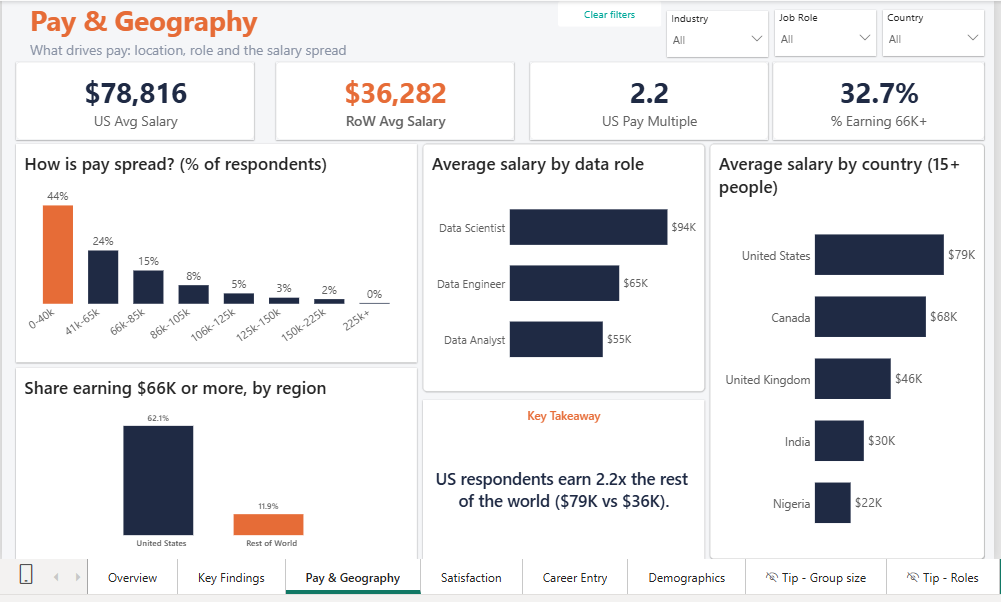

Layout of this report page (visuals, bound fields, positions):
{"tool":"powerbi","page":{"name":"Pay & Geography","canvas":[1920,1080],"ordinal":2},"visuals":[{"type":"textbox","box":[53.7,0,507.9,90.8],"z":0},{"type":"textbox","box":[53.7,76.4,708.1,41.3],"z":1000},{"type":"slicer","fields":{"Values":["Data Professional Survey.Industry"]},"box":[1286.2,18.6,196.1,88.8],"z":2000},{"type":"slicer","fields":{"Values":["Data Professional Survey.Job Role"]},"box":[1496.8,16.5,196.1,88.8],"z":3000},{"type":"slicer","fields":{"Values":["Data Professional Survey.Country"]},"box":[1705.3,16.5,196.1,88.8],"z":4000},{"type":"cardVisual","fields":{"Data":["_Measures.US Avg Salary"]},"box":[26.8,117.7,461,150.9],"z":5000},{"type":"cardVisual","fields":{"Data":["_Measures.RoW Avg Salary"]},"box":[530.6,117.7,461.3,150.9],"z":6000},{"type":"cardVisual","fields":{"Data":["_Measures.US Pay Multiple"]},"box":[1021.9,117.7,461,150.9],"z":7000},{"type":"cardVisual","fields":{"Data":["_Measures.% Earning 66K+"]},"box":[1492.6,117.7,409,150.9],"z":8000},{"type":"clusteredColumnChart","title":"How is pay spread? (% of respondents)","fields":{"Category":["Data Professional Survey.Salary_Range"],"Y":["_Measures.Total Respondents"]},"box":[26.8,276.6,776.3,423.2],"z":9000},{"type":"clusteredBarChart","title":"Average salary by country (15+ people)","fields":{"Category":["Data Professional Survey.Country"],"Y":["_Measures.Avg Salary (Safe)"]},"box":[1370.8,276.6,530.6,803.1],"z":10000},{"type":"card","title":"Key Takeaway","fields":{"Values":["_Measures.Pay Insight"]},"box":[815.5,772.1,545,307.6],"z":11000},{"type":"clusteredBarChart","title":"Average salary by data role","fields":{"Category":["Data Professional Survey.Job Role"],"Y":["_Measures.Avg Salary (Safe)"]},"box":[815.5,276.6,545,479],"z":12000},{"type":"clusteredColumnChart","title":"Share earning $66K or more, by region","fields":{"Category":["Data Professional Survey.Region Group"],"Y":["_Measures.% Earning 66K+"]},"box":[26.8,710.2,776.3,369.5],"z":13000},{"type":"actionButton","box":[1075.6,0,200,50],"z":14000}]}

Visuals, with their boxes on the page's 1920x1080 design canvas (x1, y1, x2, y2). These are canvas units, not pixel positions in the 1001x602 screenshot, which may show the page scaled, cropped or inside an application window:
textbox: rect(54, 0, 562, 91)
textbox: rect(54, 76, 762, 118)
slicer - Data Professional Survey.Industry: rect(1286, 19, 1482, 107)
slicer - Data Professional Survey.Job Role: rect(1497, 16, 1693, 105)
slicer - Data Professional Survey.Country: rect(1705, 16, 1901, 105)
cardVisual - _Measures.US Avg Salary: rect(27, 118, 488, 269)
cardVisual - _Measures.RoW Avg Salary: rect(531, 118, 992, 269)
cardVisual - _Measures.US Pay Multiple: rect(1022, 118, 1483, 269)
cardVisual - _Measures.% Earning 66K+: rect(1493, 118, 1902, 269)
"How is pay spread? (% of respondents)" clusteredColumnChart: rect(27, 277, 803, 700)
"Average salary by country (15+ people)" clusteredBarChart: rect(1371, 277, 1901, 1080)
"Key Takeaway" card: rect(816, 772, 1360, 1080)
"Average salary by data role" clusteredBarChart: rect(816, 277, 1360, 756)
"Share earning $66K or more, by region" clusteredColumnChart: rect(27, 710, 803, 1080)
actionButton: rect(1076, 0, 1276, 50)
